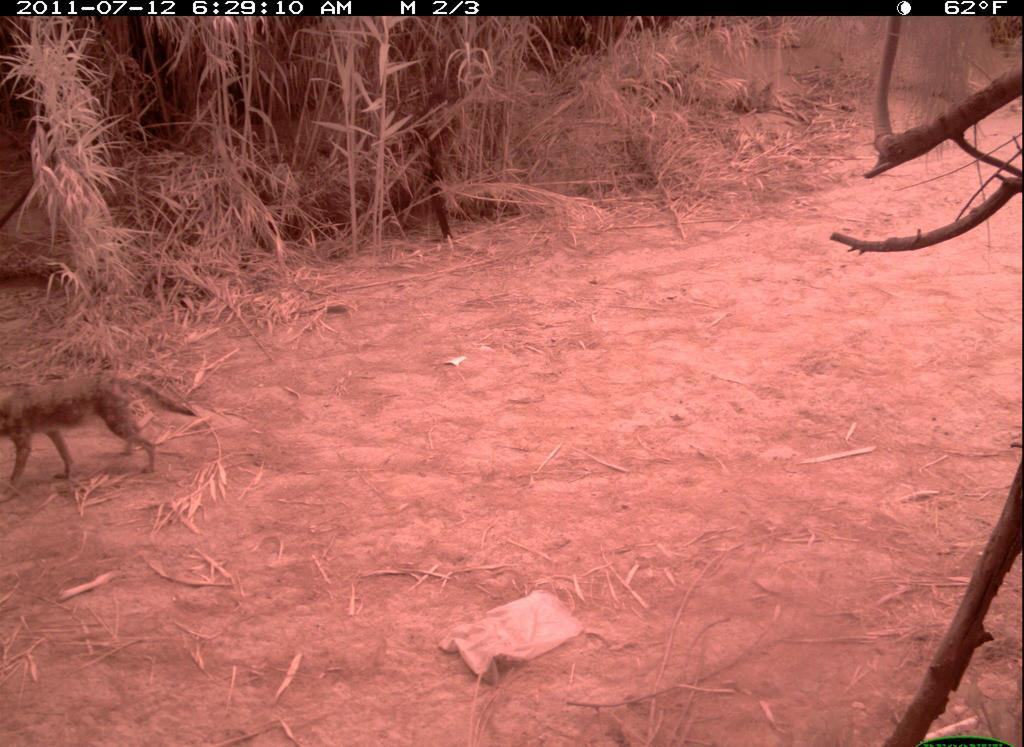coyote: (1, 354, 217, 496)
